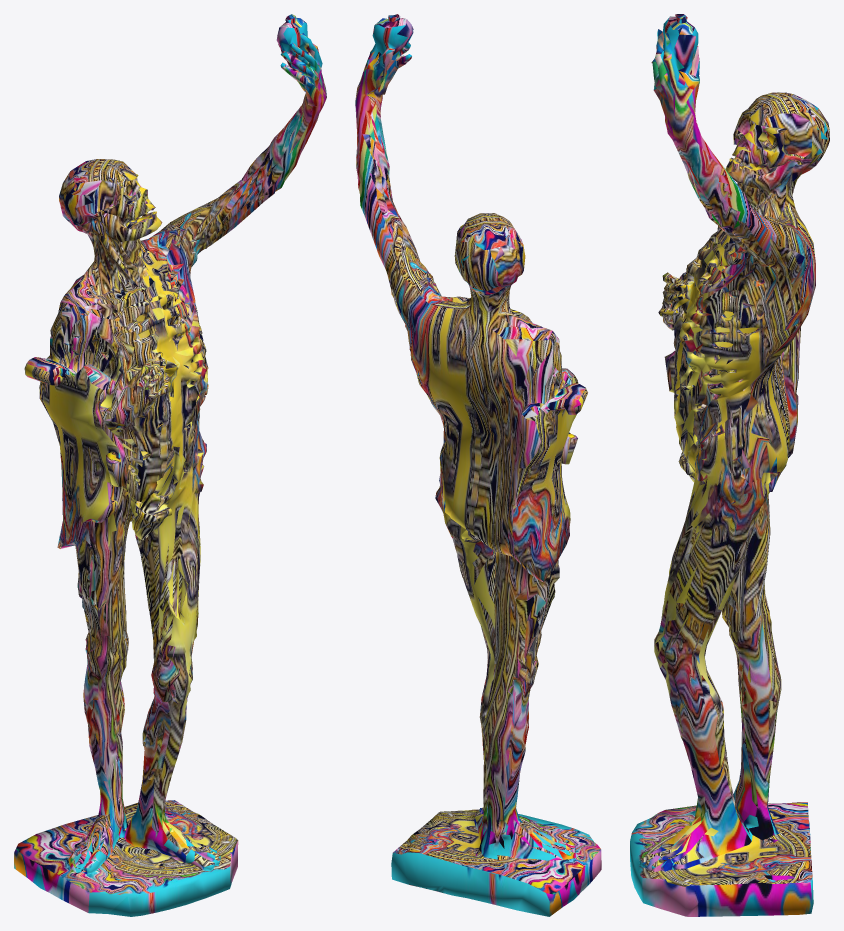
File: tds_le-transi-de-rene-de-chalon.glb
The picture shows the model from 3 angles, left to right: view 1: azimuth 30°, elevation 25°; view 2: azimuth 150°, elevation 25°; view 3: azimuth 270°, elevation 25°; orthographic projection. The views are drawn at different scales.
Visible parts, largest first — view 1: A; view 2: A; view 3: A.
Part boxes in pixels (<box>): A: <box>14,14,326,916</box>; A: <box>355,14,601,916</box>; A: <box>630,14,829,916</box>.
Bounding box in the file's own units: 0.6634 × 2 × 0.3891.
1 material, 1 textured.
